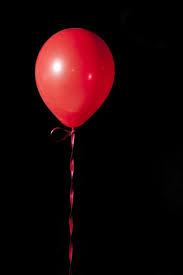red: (34, 28, 115, 128)
